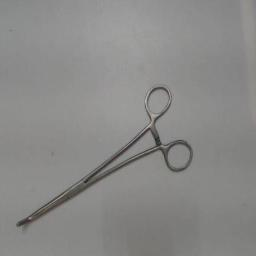Lahey Forceps: (12, 75, 194, 233)
